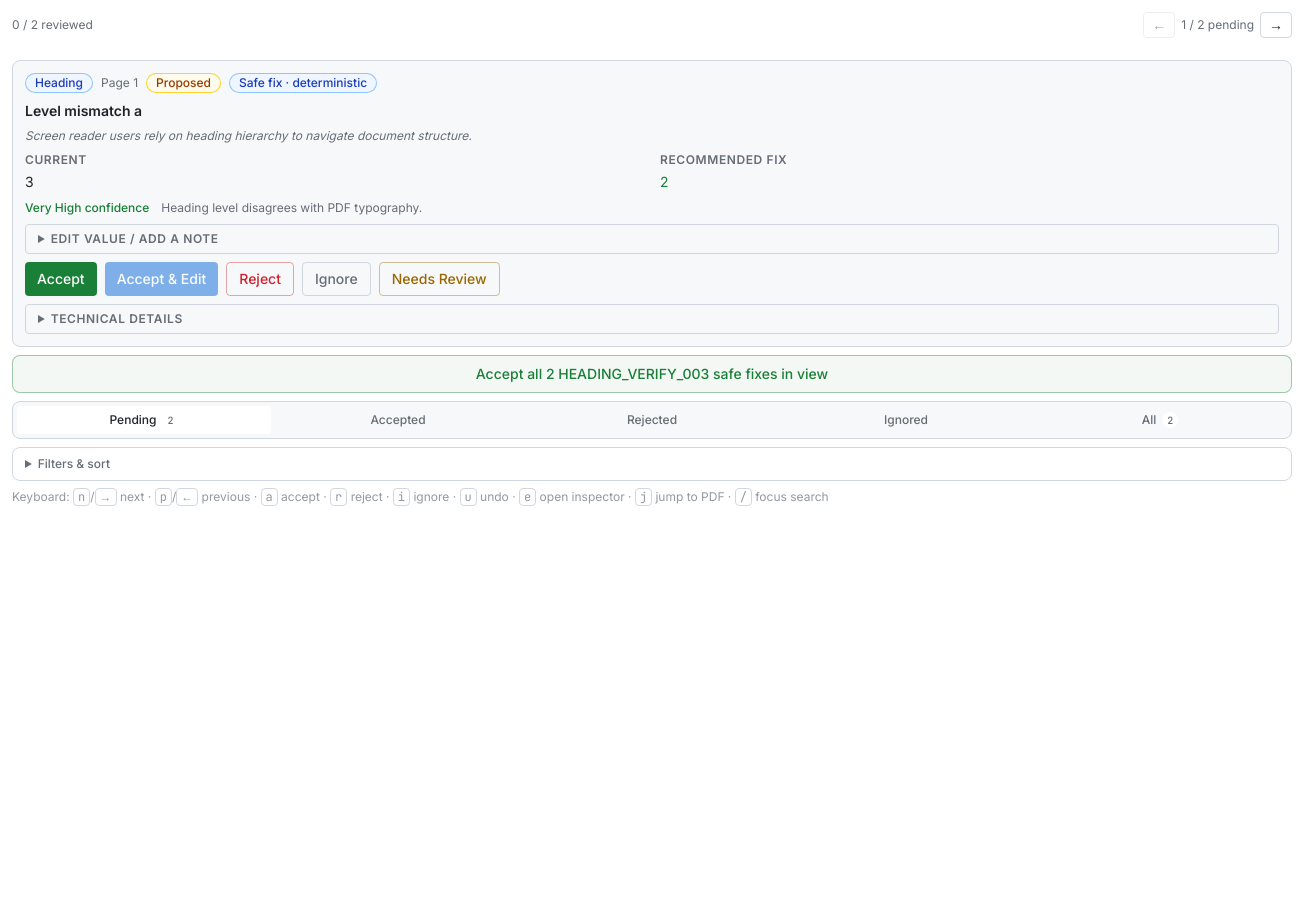
it: ReviewerWorkspace batch review › reports a refused batch as nothing changed, never as accepted
Click the button "Accept all 2 HEADING_VERIFY_003 safe fixes in view" at x=652, y=374, box x1=12 y1=355 x2=1292 y2=393
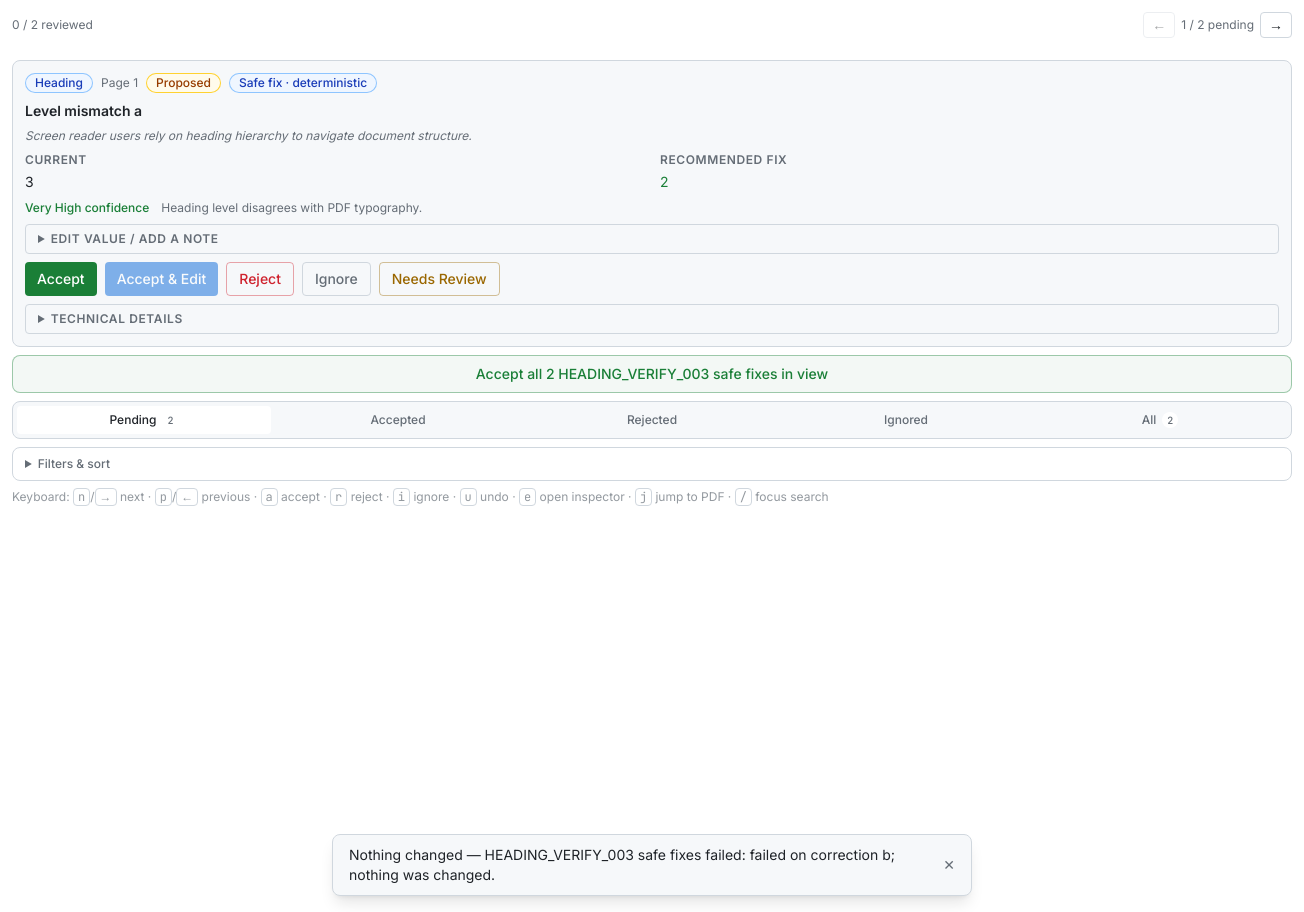
Expected: the text "Nothing changed" is shown, x1=349 y1=846 x2=895 y2=883
